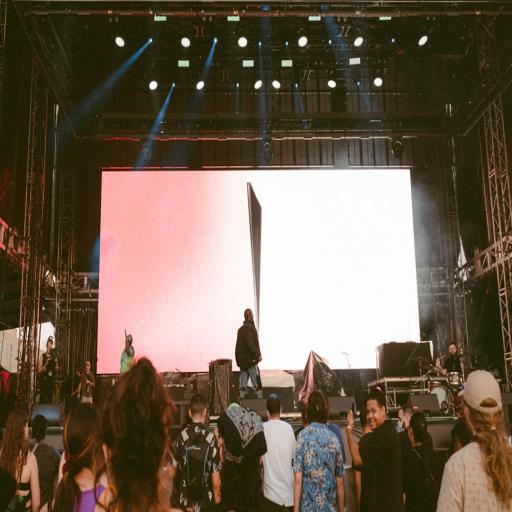face: (366, 400, 386, 430)
